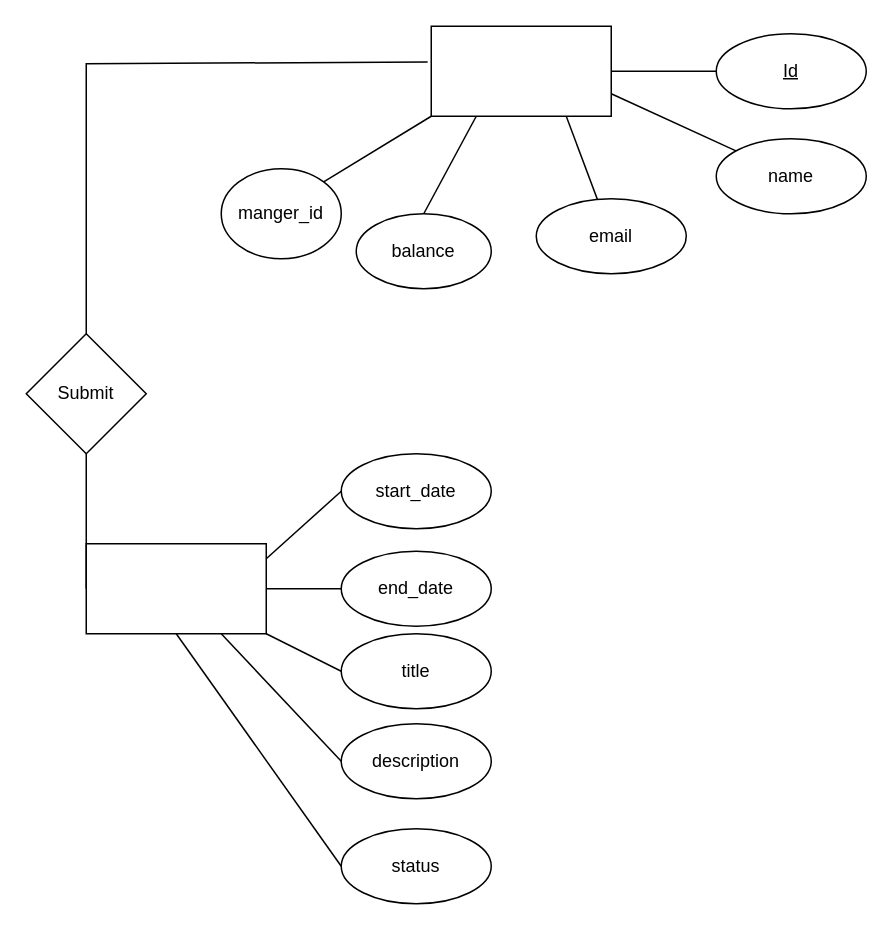
The diagram is 893 pixels wide and 930 high, and some of its shapes have lost their labels. The shapes that lost their labels are listed below. From the top down, each one's centre as x and y in pixels, then its label:
At (x=520, y=70): "Employee".
At (x=175, y=588): "Leave Request".
